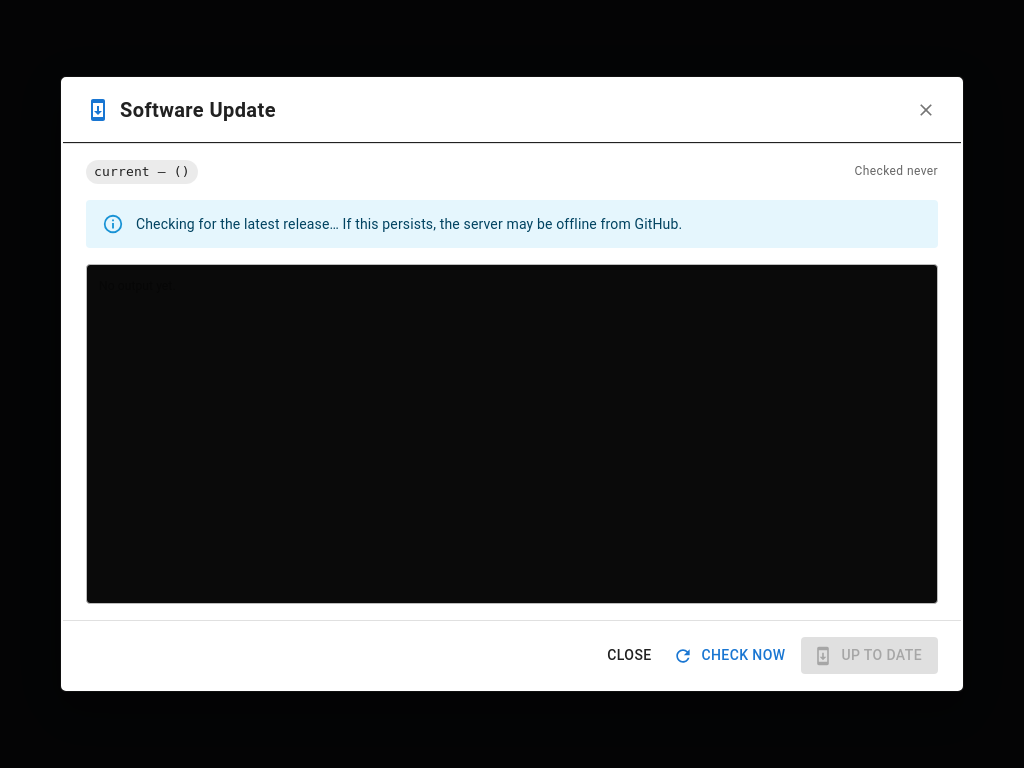
Test: UpdateManager — manual check › surfaces a failed check and re-enables the button
This screenshot has width=1024, height=768.
Expected: the button "Up to date" is shown, [801,637,938,674]
Click the button "Check now".
click(731, 656)  # box [669,637,793,674]
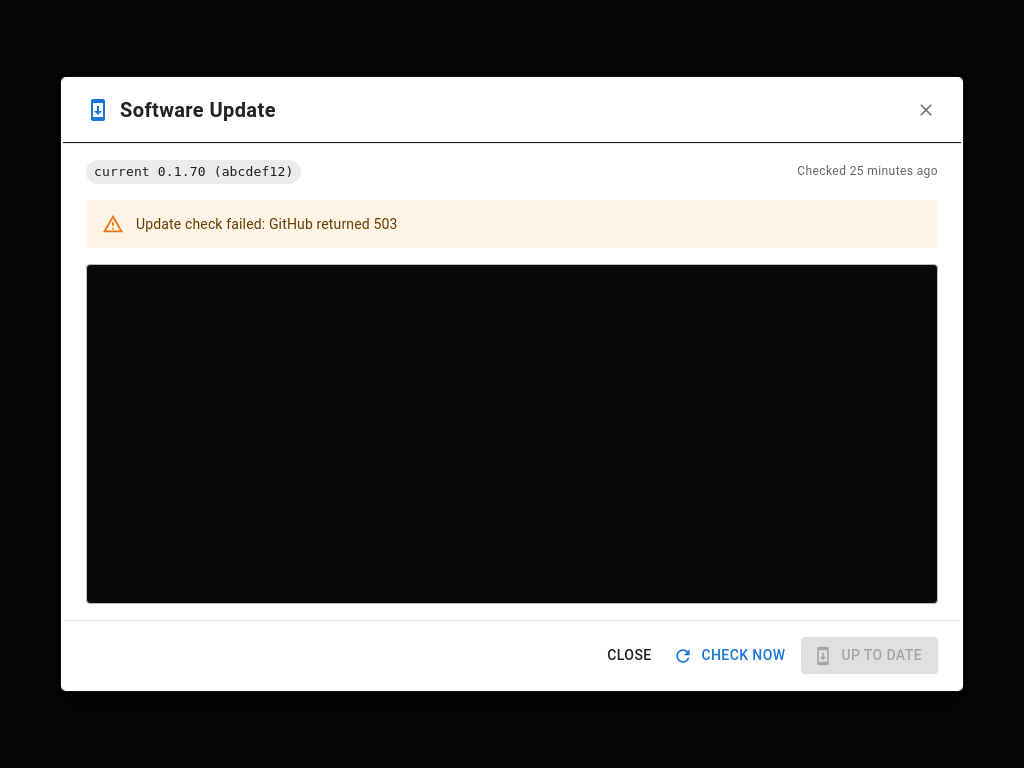
Expected: the text "Update check failed: GitHub returned 503" is shown, [136,216,398,232]
